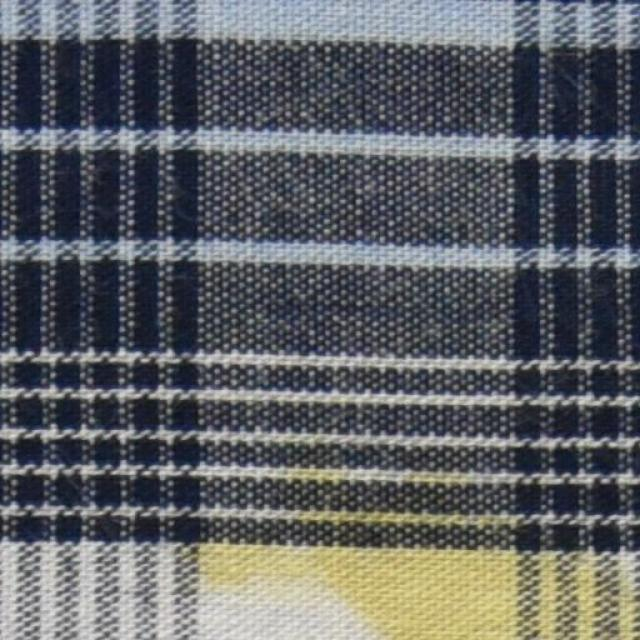Stain: (188, 436, 639, 639)
